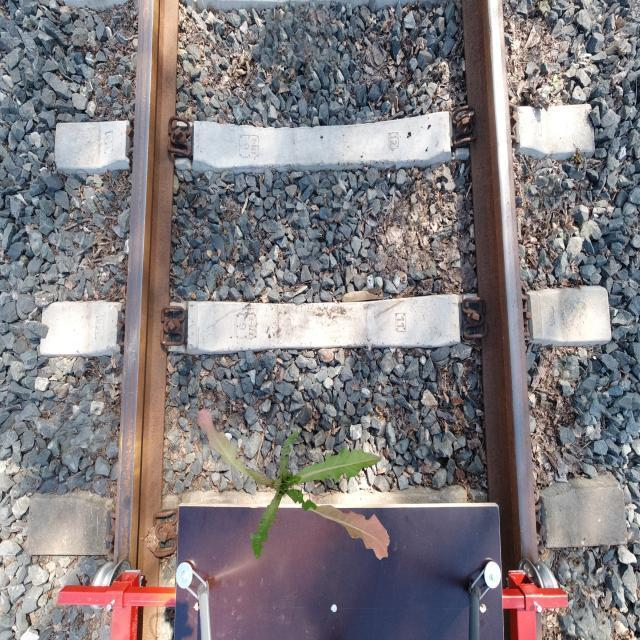Plant: (197, 409, 390, 561)
